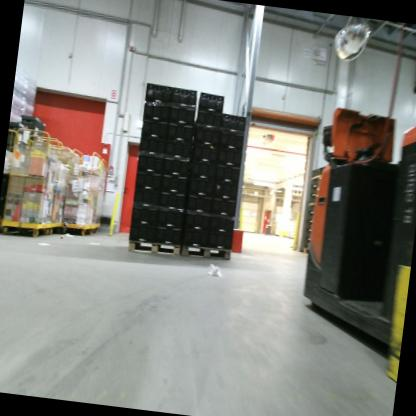pallet: (119, 231, 182, 264), (178, 236, 235, 271)
pallet_truck: (292, 90, 416, 349)
small_load_carrier: (15, 114, 49, 145), (142, 76, 173, 105), (158, 168, 191, 193), (190, 121, 221, 147), (209, 194, 240, 220), (218, 109, 249, 134), (217, 123, 248, 148), (168, 82, 200, 106), (156, 204, 186, 229), (197, 86, 224, 113), (141, 97, 170, 122), (134, 153, 164, 177), (211, 176, 240, 200), (214, 161, 244, 184), (164, 118, 195, 140), (127, 221, 156, 244), (138, 116, 167, 138), (154, 226, 184, 247), (207, 227, 237, 248), (162, 137, 193, 157), (188, 161, 216, 183), (207, 212, 239, 231), (166, 102, 197, 121), (137, 135, 165, 156), (130, 202, 158, 223), (195, 108, 223, 128), (158, 190, 189, 208), (160, 154, 191, 172), (215, 146, 246, 164), (180, 225, 209, 244), (191, 144, 218, 164), (132, 188, 160, 206), (181, 211, 210, 228), (134, 173, 161, 191), (187, 196, 212, 214), (190, 181, 214, 199)
